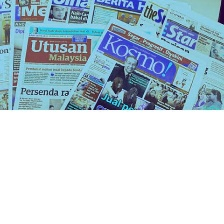news_paper: (56, 14, 207, 112), (11, 18, 111, 111), (156, 1, 224, 110), (0, 0, 52, 110), (83, 0, 174, 38), (42, 0, 94, 26)
